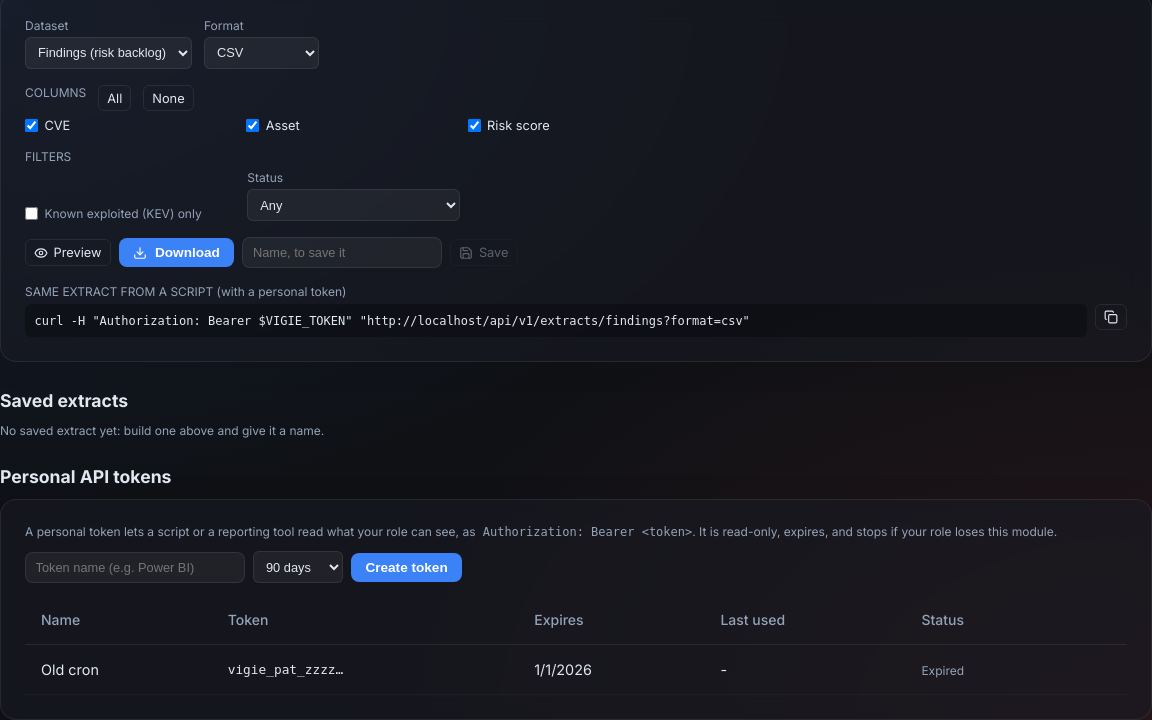
Test: Extracts › shows a new token once, and lists tokens without their secret
(page scrolled)
Expected: the text "Expired" is shown, [921,663,964,678]
Type "Power BI" into the field labelled "Token name" at (135, 567), box [25,552,245,583]
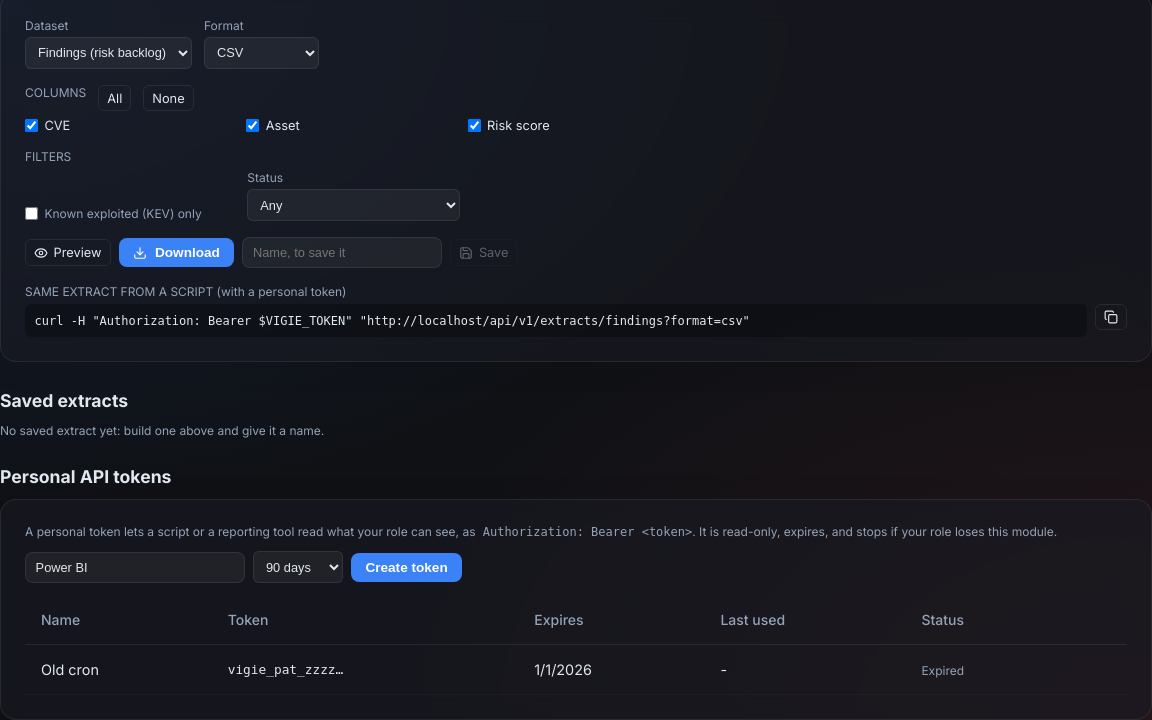
Click the button "Create token" at (407, 567), box [351,552,462,582]
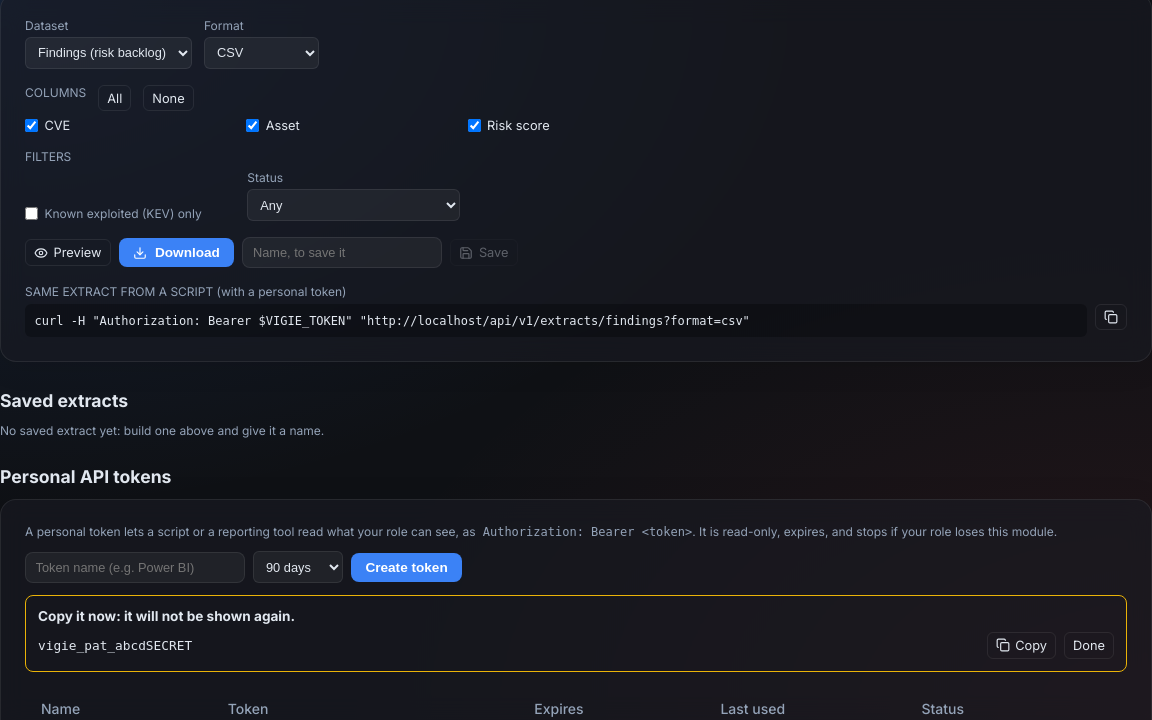
Expected: the text with test id "new-token" reads "vigie_pat_abcdSECRET", [38,638,192,653]
Expected: the text "Copy it now: it will not be shown again." is shown, [38,608,295,624]
